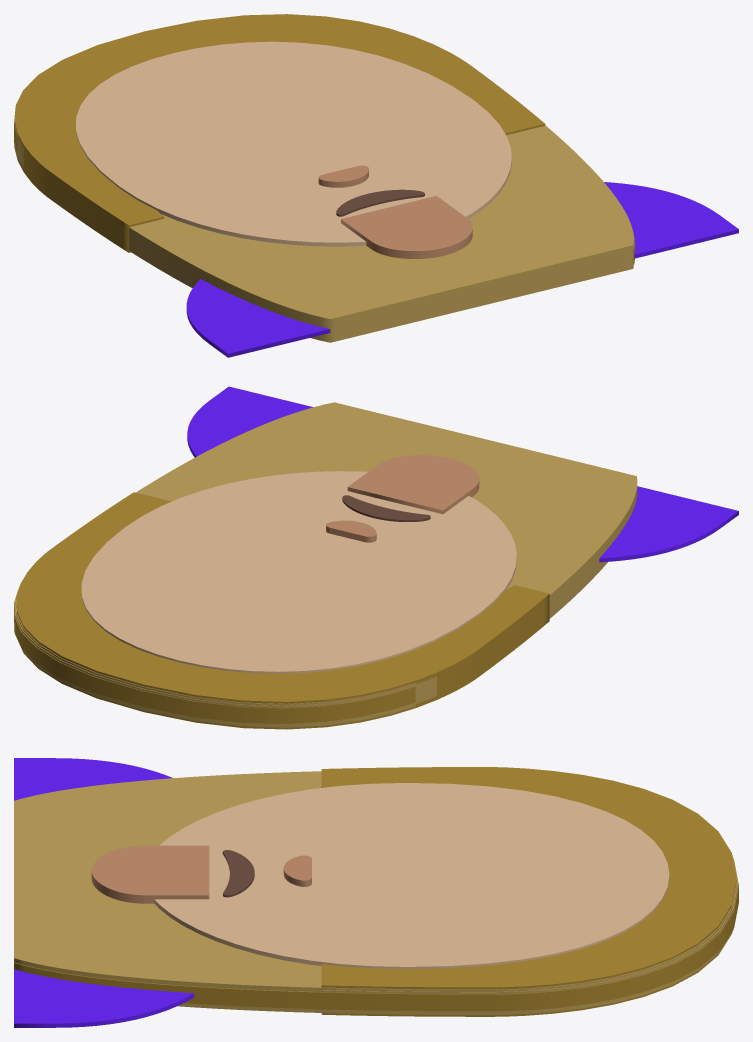
File: emoji_u1f64d_1f3fc_200d_2640.glb
3 renders of one model, top to bottom at view 1: azimuth 30°, elevation 25°; view 2: azimuth 150°, elevation 25°; view 3: azimuth 270°, elevation 25°, orthographic. The views are drawn at different scales.
Parts seen in each view (by area): view 1: emoji_u1f64d_1f3fc_200d_2640; view 2: emoji_u1f64d_1f3fc_200d_2640; view 3: emoji_u1f64d_1f3fc_200d_2640.
Part boxes in pixels (x1,y1,x2,y2): emoji_u1f64d_1f3fc_200d_2640: [14, 14, 738, 357]; emoji_u1f64d_1f3fc_200d_2640: [14, 386, 738, 729]; emoji_u1f64d_1f3fc_200d_2640: [14, 758, 738, 1027].
Bounding box in the file's own units: 0.0271 × 0.0022 × 0.0313.
